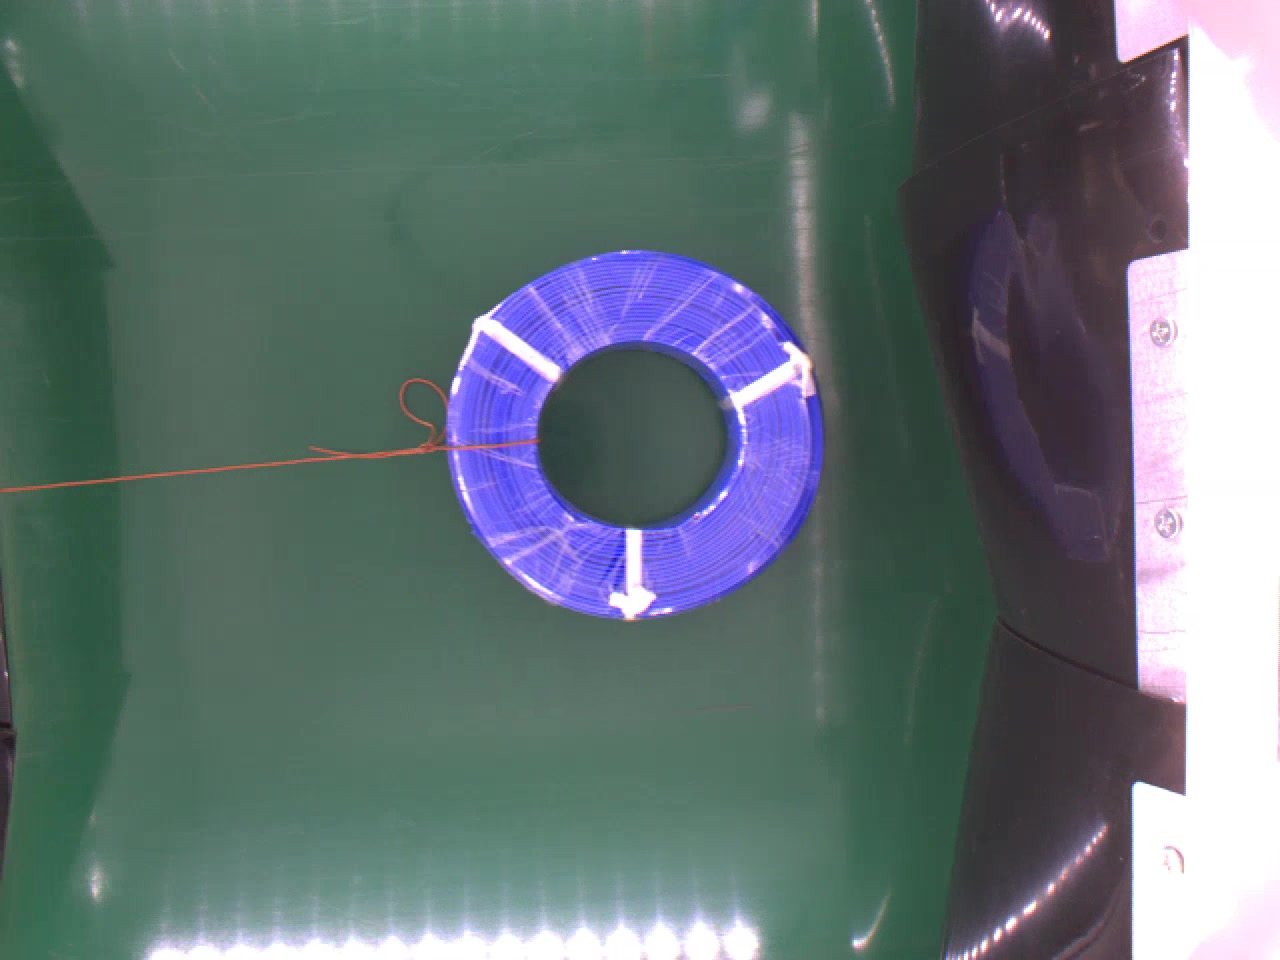blue: (445, 244, 827, 612)
